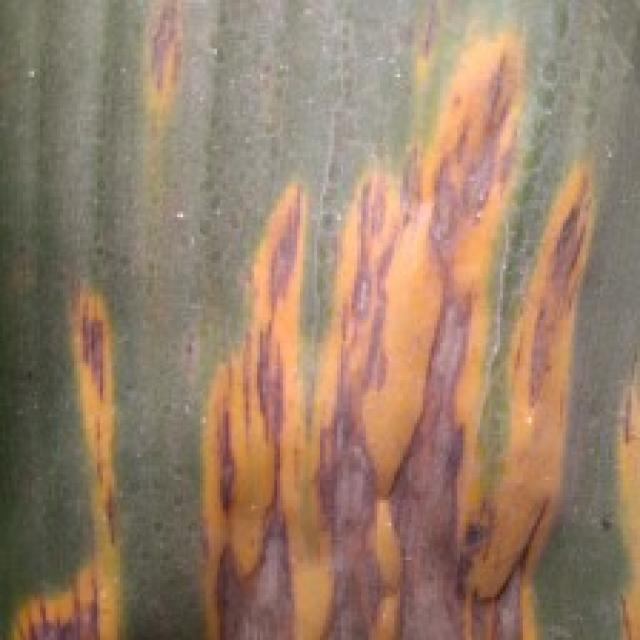Early_leaf_spot: (188, 0, 585, 640), (11, 260, 166, 640), (577, 331, 640, 640), (90, 0, 202, 156)
